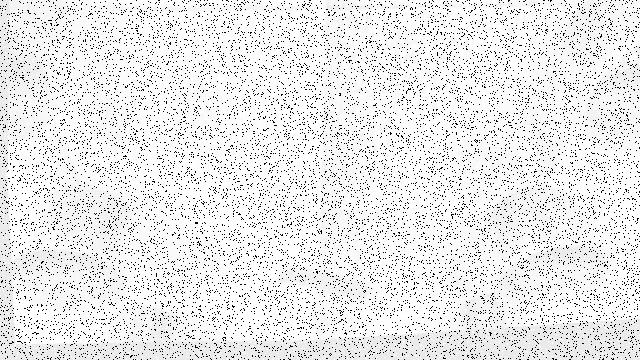pot: (11, 185, 134, 313), (489, 186, 617, 306)
